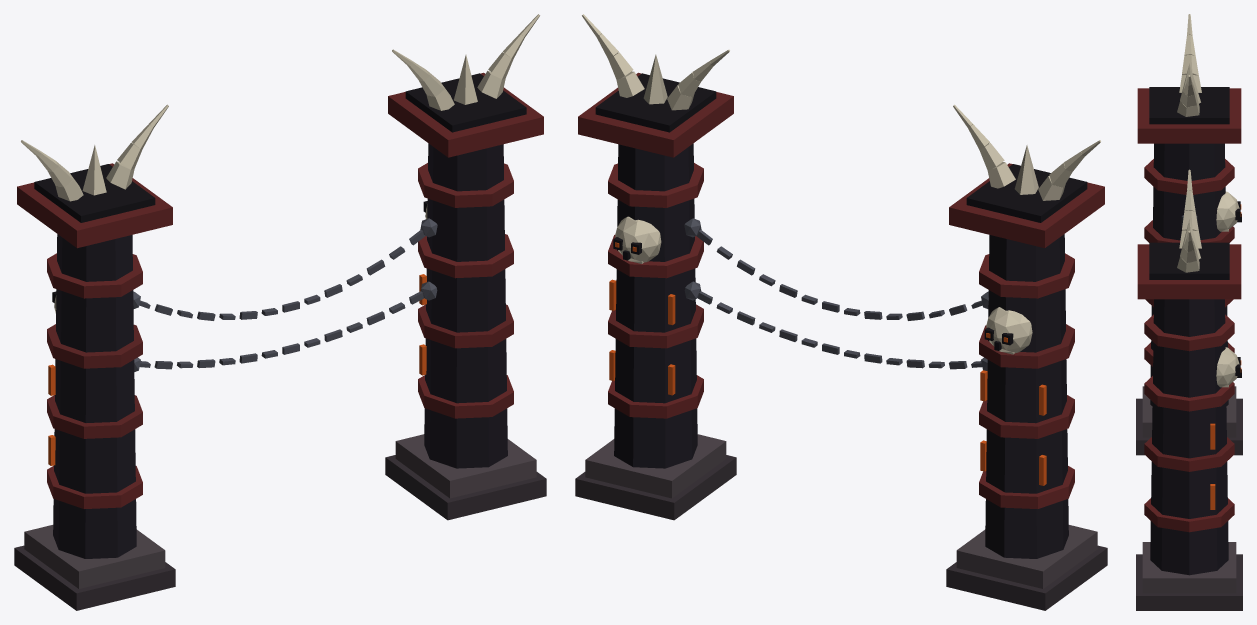
Rendered from Decor_HellGate_GatePillars.fbx.
The picture shows the model from 3 angles, left to right: view 1: azimuth 30°, elevation 25°; view 2: azimuth 150°, elevation 25°; view 3: azimuth 270°, elevation 25°; orthographic projection. The views are drawn at different scales.
Parts seen in each view (by area): view 1: GatePillars_Body; view 2: GatePillars_Body; view 3: GatePillars_Body.
Part boxes in pixels (<box>): GatePillars_Body: <box>14,14,546,610</box>; GatePillars_Body: <box>575,14,1107,610</box>; GatePillars_Body: <box>1136,14,1242,610</box>.
Bounding box in the file's own units: 30.84 × 25.76 × 6.4.
